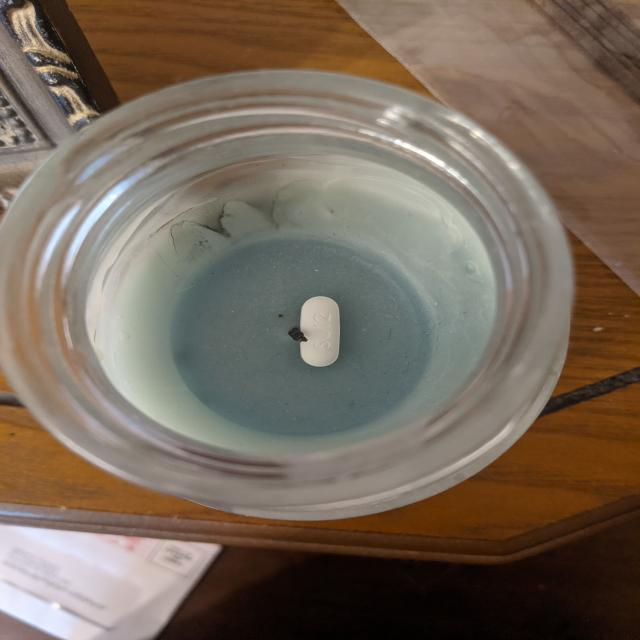non-organic waste: (298, 295, 342, 368)
